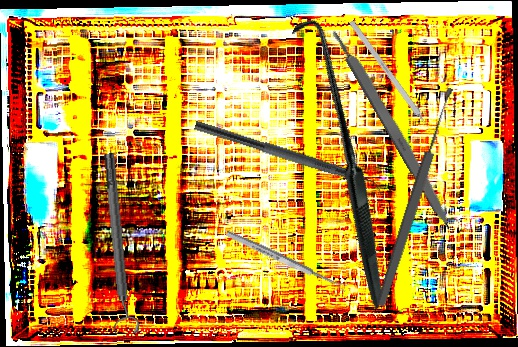Chopper: (189, 119, 391, 203)
Fixation Ring: (96, 152, 141, 335)
Hook Surgical: (194, 13, 484, 312), (348, 19, 438, 139)
Scalpel Handle: (329, 25, 458, 232)
Surgical Spoon: (374, 86, 458, 308), (224, 229, 349, 293)
